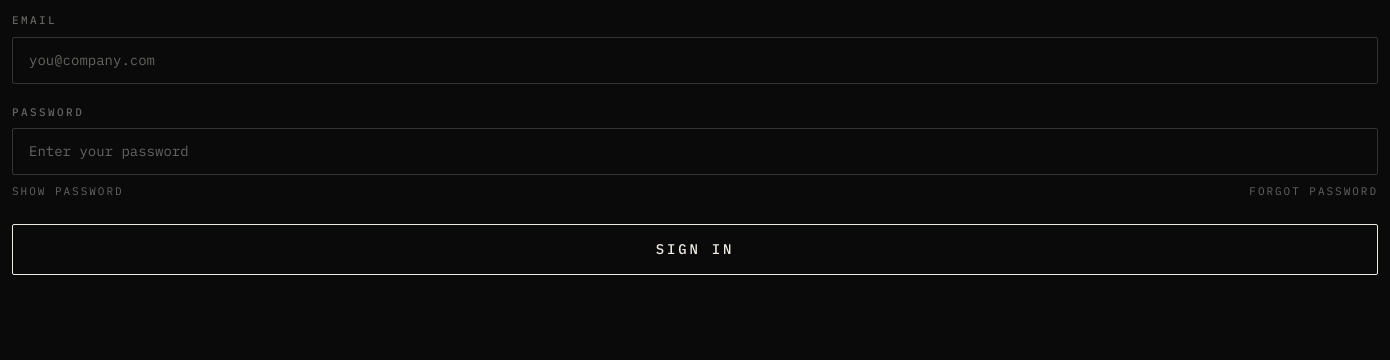
Test case: AdminLoginForm › shows backend/auth error when login fails
The image size is (1390, 360).
In the field labelled "Email": [695, 60] box [12,36,1378,84], type "alex@example.com"
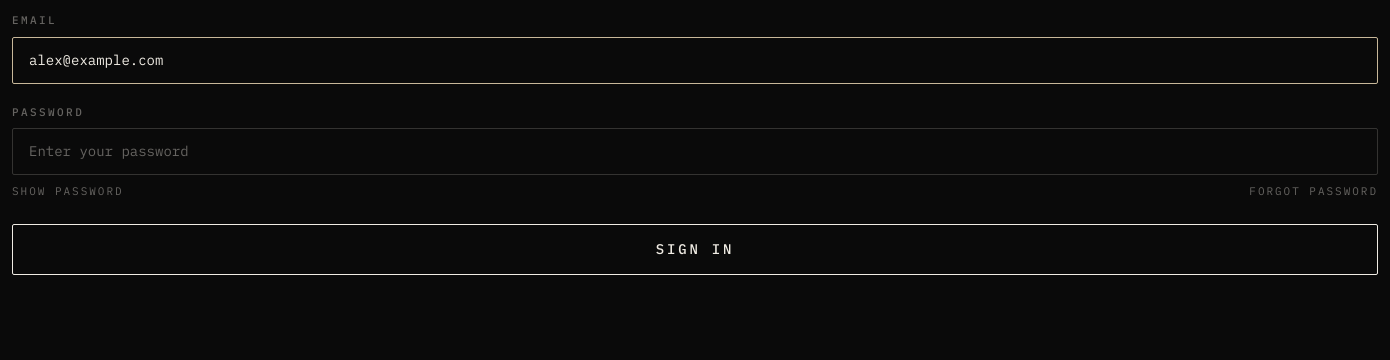
In the password field labelled "Password": [695, 152] box [12,128,1378,175], type "password123"
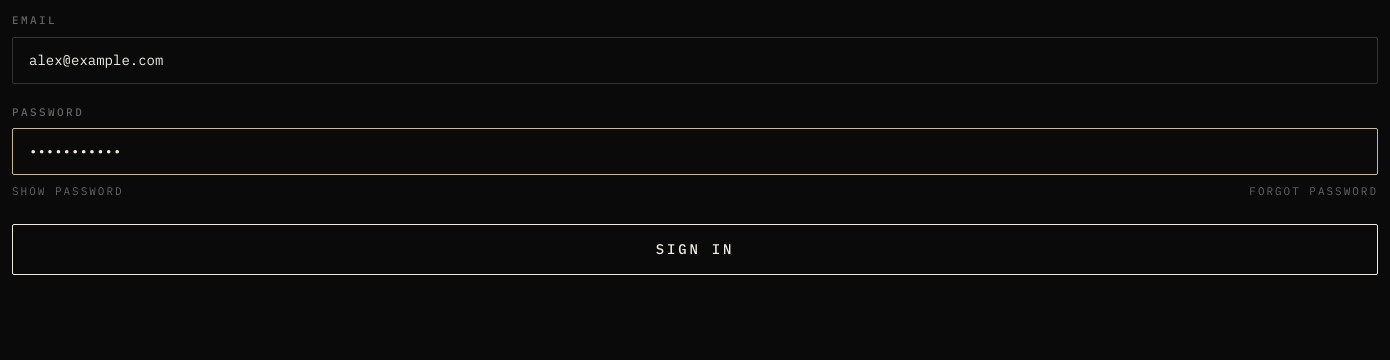
Click the button "Sign In": [695, 249] box [12,224,1378,274]
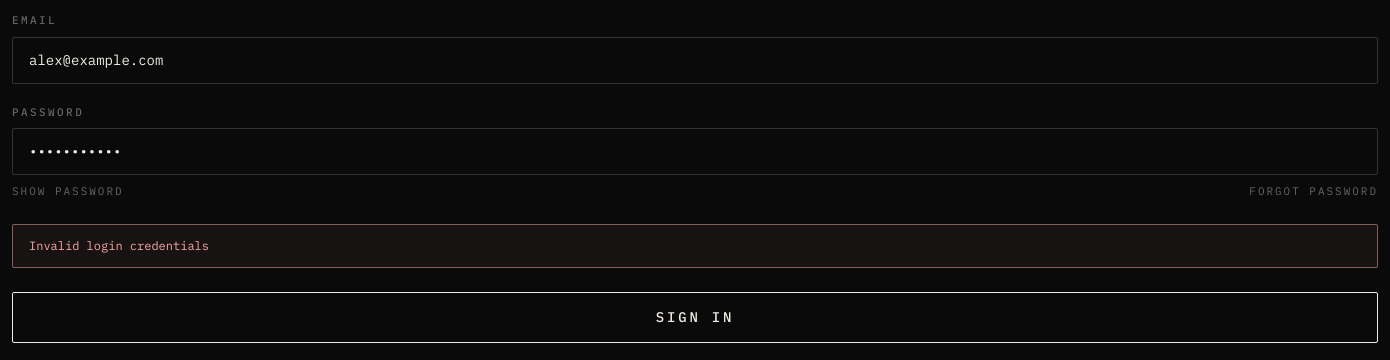
Expected: the text "Invalid login credentials" is shown, [29,238,209,252]
